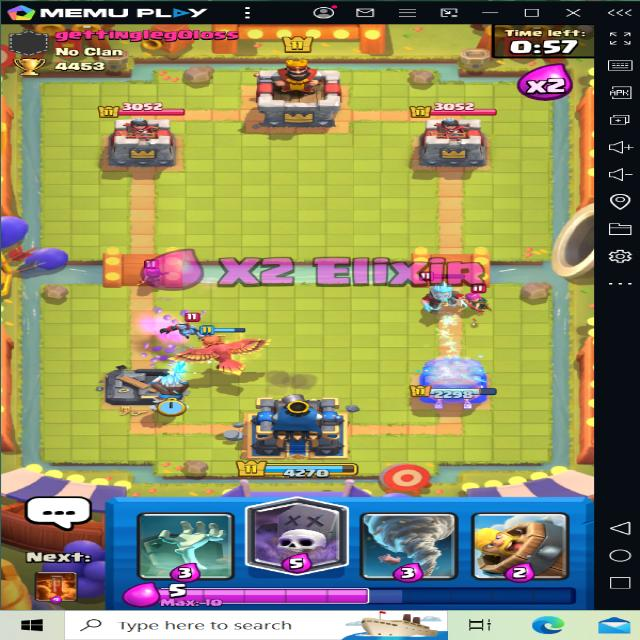archer: (133, 256, 180, 290), (466, 286, 506, 312)
ice-wizard: (404, 267, 462, 317)
minion: (158, 313, 202, 341)
